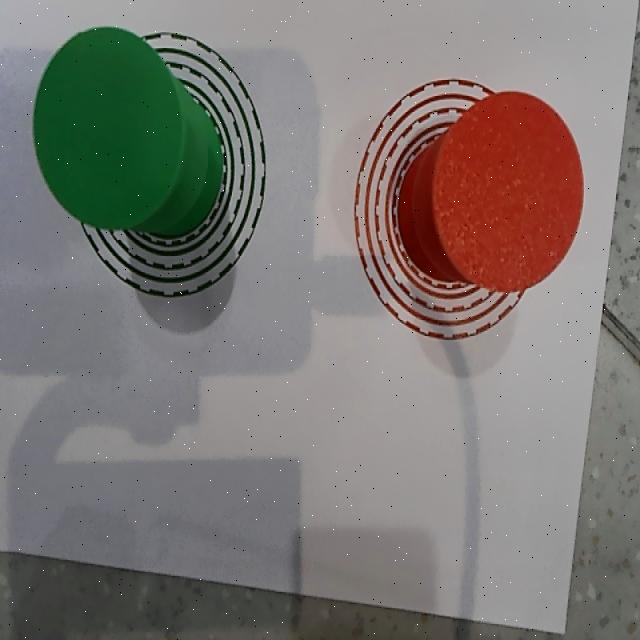g: (34, 25, 184, 231)
r: (432, 90, 584, 292)
